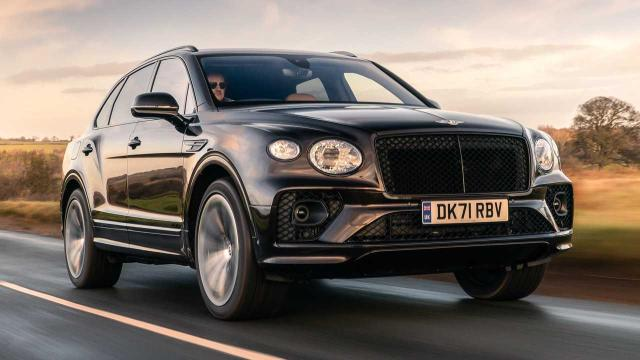bentley: (59, 46, 575, 320)
